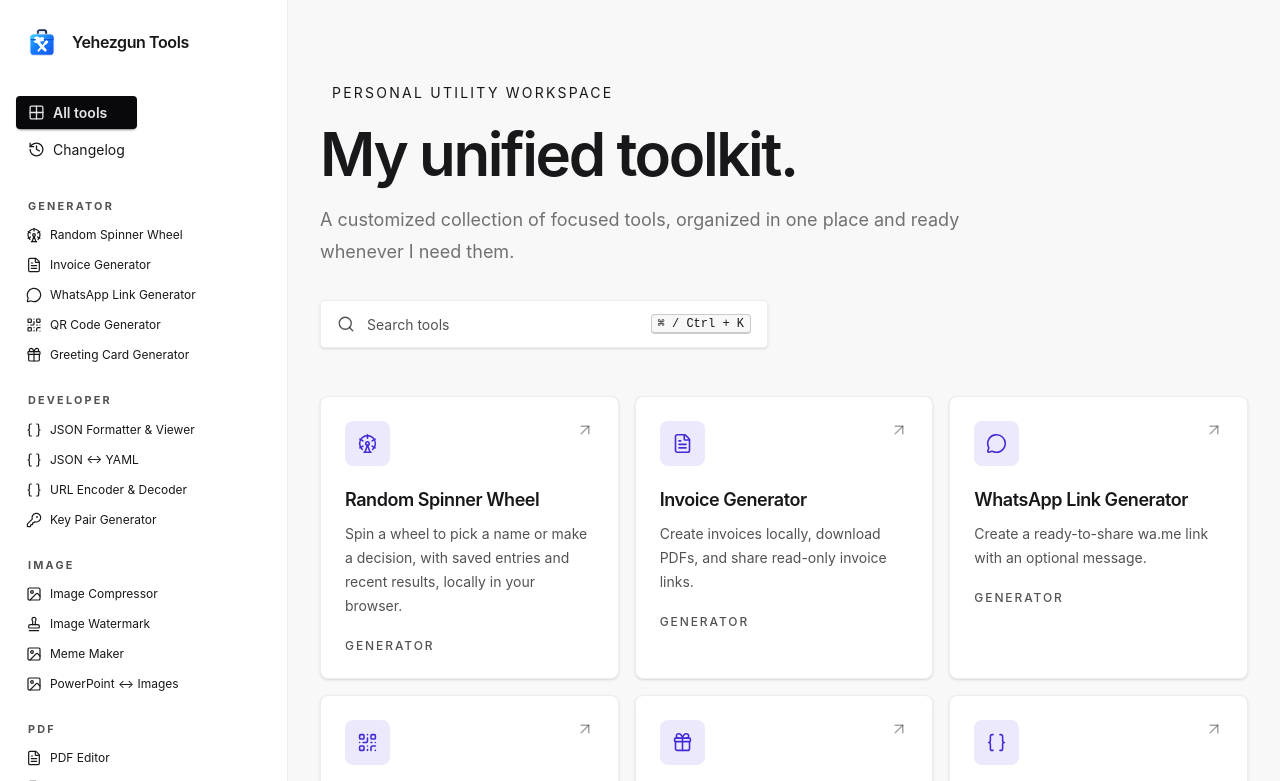
Test case: navigates to a result and closes search when it is selected
Click the button "Search tools ⌘ / Ctrl + K": click(408, 324) [320,300,768,348]
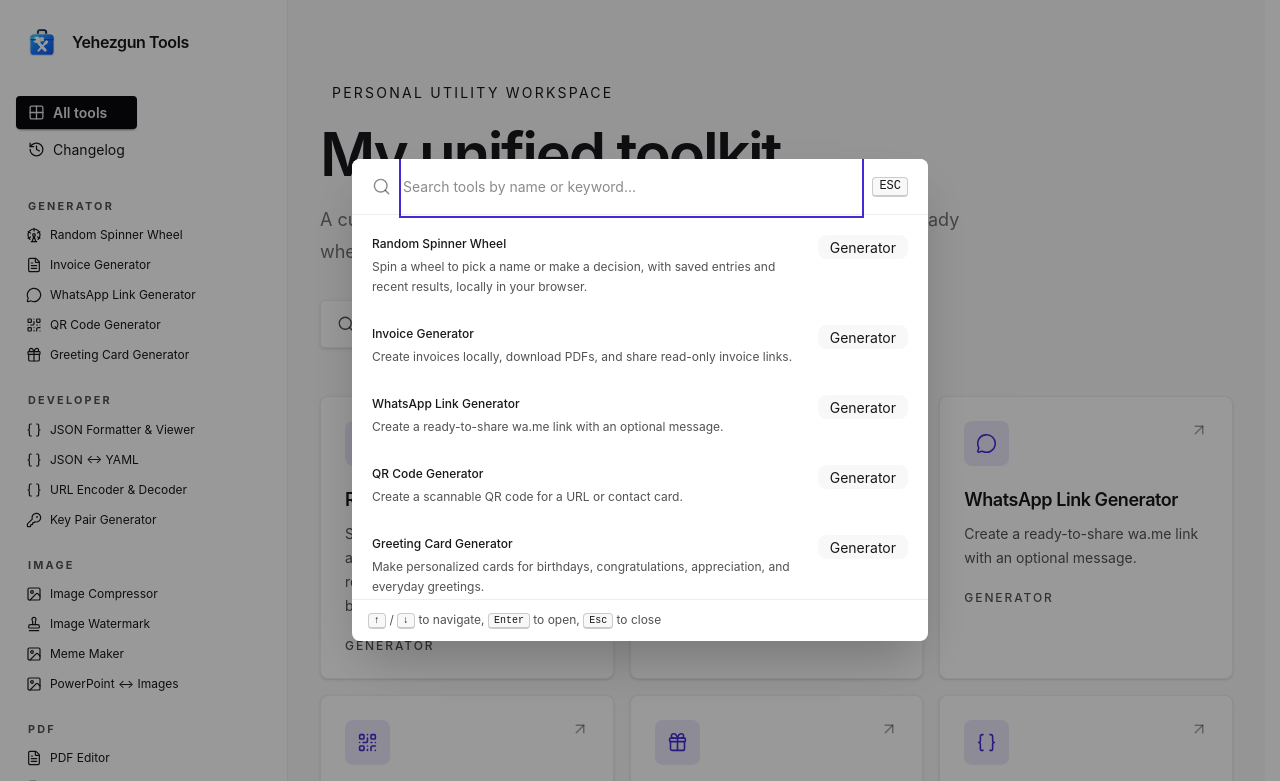
In the search field named "Search tools": (632, 187) [403,159,860,214], type "json"
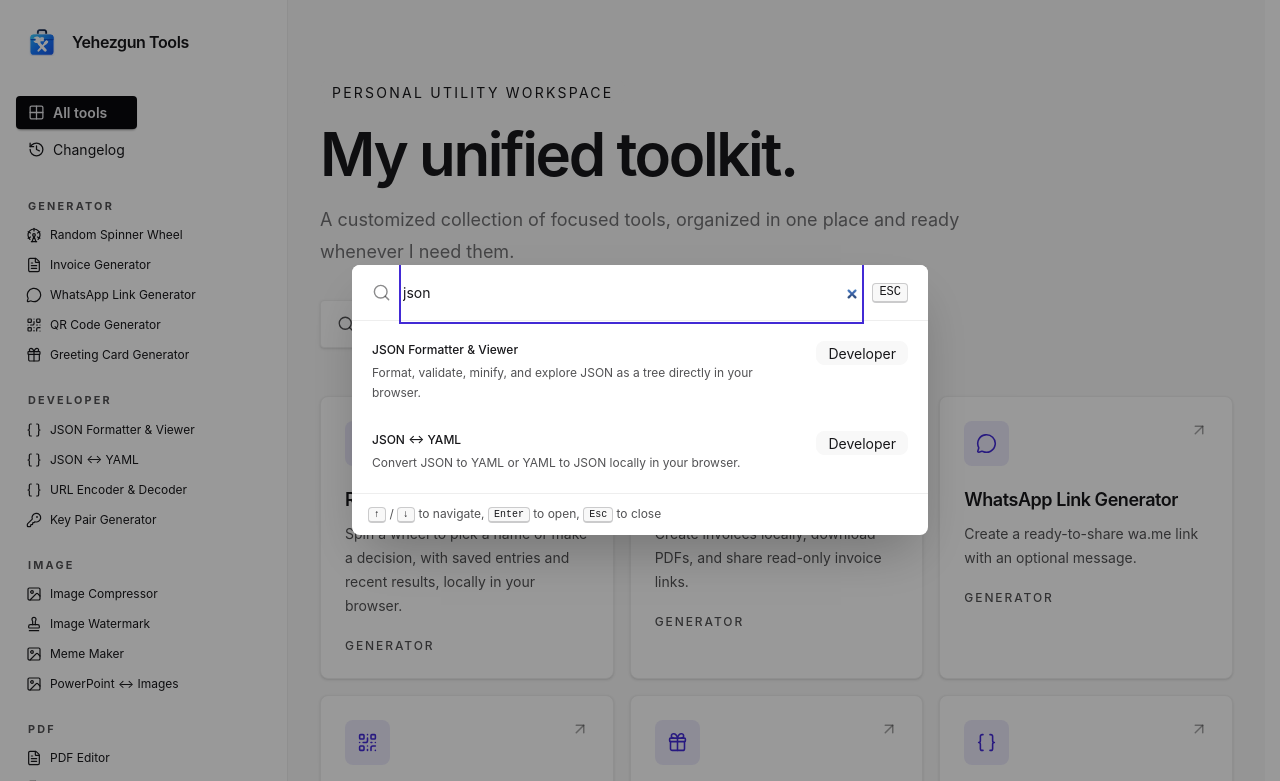
Click the link "JSON Formatter": click(640, 372) [360,329,920,415]
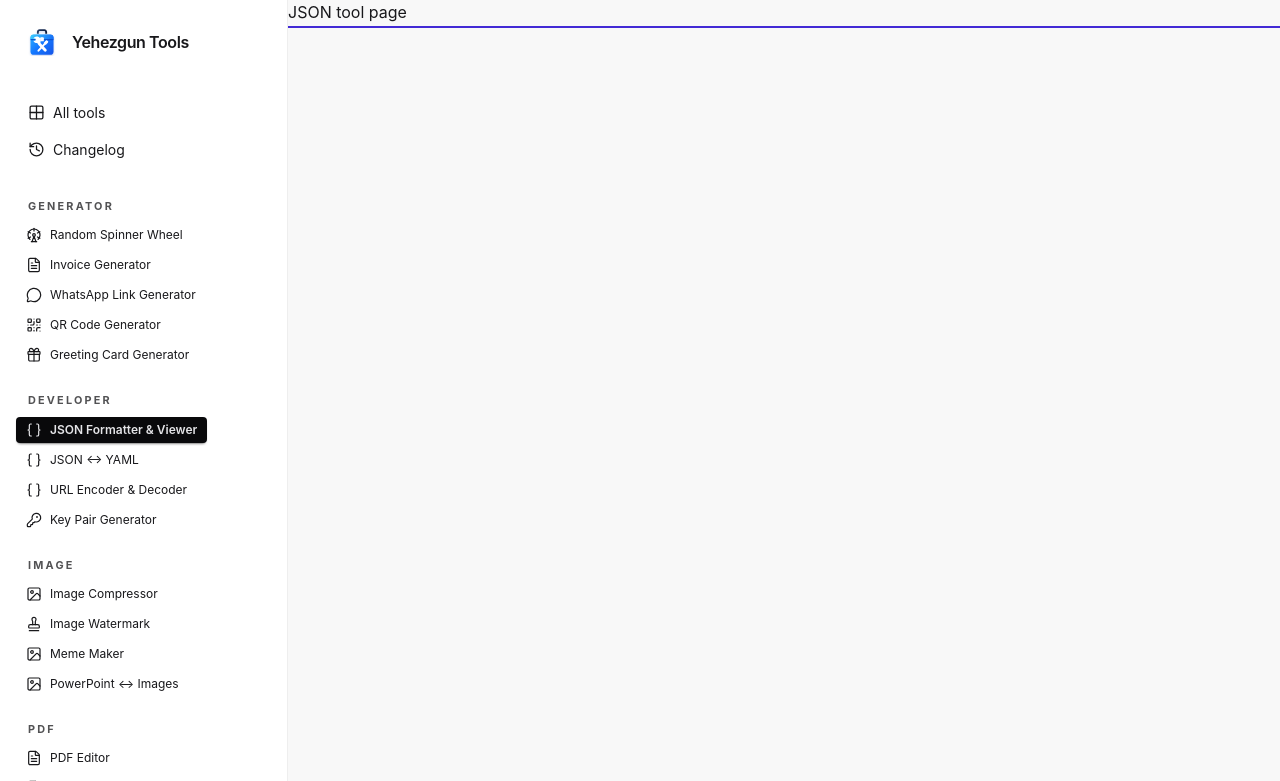
Check: the heading "JSON tool page" is shown, box [288,2,407,22]
Check: the button "Search tools" is gone
